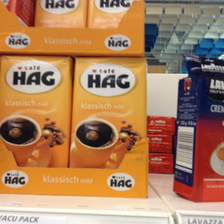coffee: (71, 55, 147, 167), (1, 55, 70, 169), (174, 54, 224, 205)
